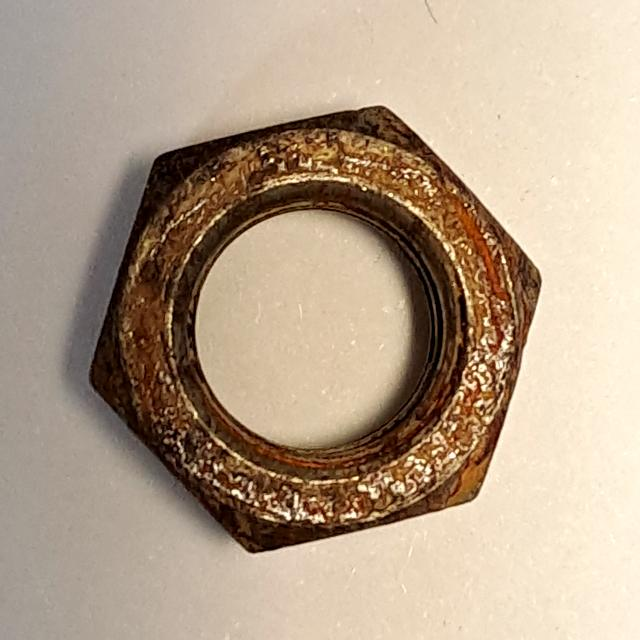Rust: (70, 85, 555, 572)
